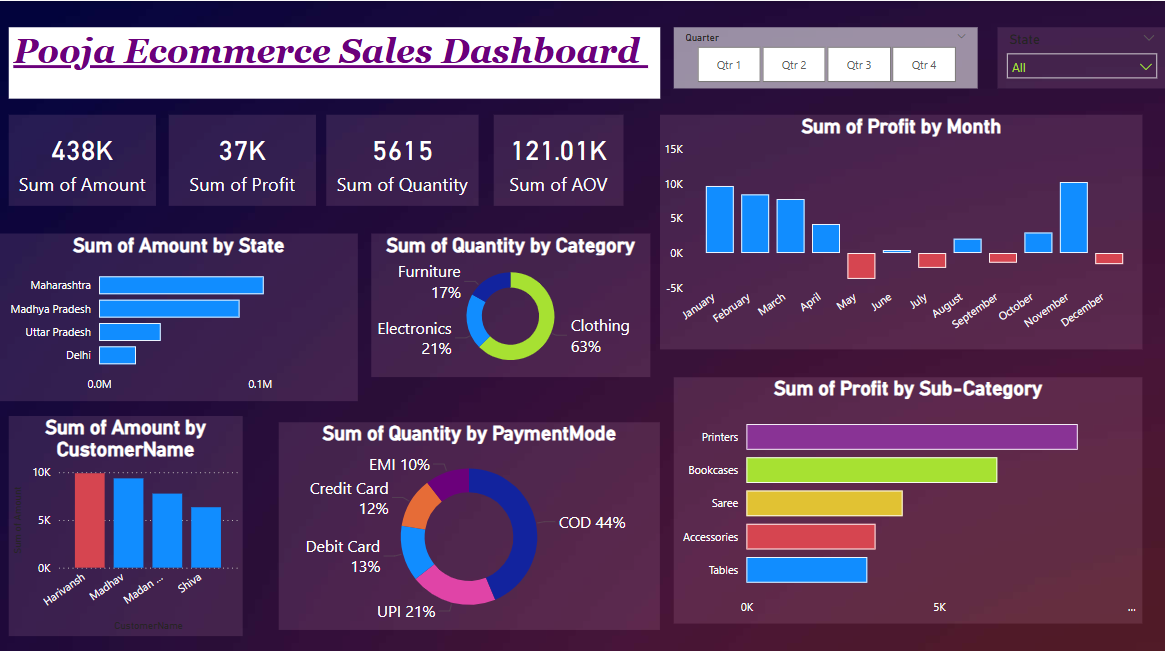

This screenshot's page, from the dashboard's own definition file:
{"tool":"powerbi","page":{"name":"Page 1","canvas":[1280,720],"ordinal":0},"visuals":[{"type":"textbox","box":[9.6,28.8,714.9,78.2],"z":0},{"type":"columnChart","fields":{"Y":["Sum(Details.Profit)"],"Category":["Orders.Order Date.Variation.Date Hierarchy.Month"]},"box":[724.5,124.9,529.7,258],"z":1000},{"type":"barChart","fields":{"Y":["Sum(Details.Profit)"],"Category":["Details.Sub-Category"]},"box":[739.6,413,514.6,270.3],"z":2000},{"type":"donutChart","fields":{"Y":["Sum(Details.Quantity)"],"Category":["Details.PaymentMode"]},"box":[306,462.4,418.5,227.8],"z":3000},{"type":"donutChart","fields":{"Category":["Details.Category"],"Y":["Sum(Details.Quantity)"]},"box":[407.5,255.2,306,157.8],"z":4000},{"type":"card","fields":{"Values":["Sum(Details.Amount)"]},"box":[9.6,124.9,161.9,100.2],"z":5000},{"type":"card","fields":{"Values":["Sum(Details.AOV)"]},"box":[542,124.9,142.7,100.2],"z":6000},{"type":"card","fields":{"Values":["Sum(Details.Quantity)"]},"box":[358.1,124.9,167.4,100.2],"z":7000},{"type":"card","fields":{"Values":["Sum(Details.Profit)"]},"box":[185.2,124.9,161.9,100.2],"z":8000},{"type":"barChart","fields":{"Category":["Orders.State"],"Y":["Sum(Details.Amount)"]},"box":[0,255.2,392.5,183.9],"z":9000},{"type":"columnChart","fields":{"Category":["Orders.CustomerName"],"Y":["Sum(Details.Amount)"]},"box":[9.6,455.6,256.6,241.5],"z":10000},{"type":"slicer","fields":{"Values":["Orders.Order Date.Variation.Date Hierarchy.Quarter"]},"box":[739.6,28.8,333.4,67.2],"z":11000},{"type":"slicer","fields":{"Values":["Orders.State"]},"box":[1095,28.8,185.2,67.2],"z":12000}]}

Visuals, with their boxes in screenshot pixels (x1, y1, x2, y2), scaled from the page's 1280x720 canvas onto the 1165x651 screenshot:
textbox: <bbox>9, 26, 659, 97</bbox>
columnChart - Sum(Details.Profit) x Orders.Order Date.Variation.Date Hierarchy.Month: <bbox>659, 113, 1142, 346</bbox>
barChart - Sum(Details.Profit) x Details.Sub-Category: <bbox>673, 373, 1142, 618</bbox>
donutChart - Sum(Details.Quantity) x Details.PaymentMode: <bbox>279, 418, 659, 624</bbox>
donutChart - Details.Category x Sum(Details.Quantity): <bbox>371, 231, 649, 373</bbox>
card - Sum(Details.Amount): <bbox>9, 113, 156, 204</bbox>
card - Sum(Details.AOV): <bbox>493, 113, 623, 204</bbox>
card - Sum(Details.Quantity): <bbox>326, 113, 478, 204</bbox>
card - Sum(Details.Profit): <bbox>169, 113, 316, 204</bbox>
barChart - Orders.State x Sum(Details.Amount): <bbox>0, 231, 357, 397</bbox>
columnChart - Orders.CustomerName x Sum(Details.Amount): <bbox>9, 412, 242, 630</bbox>
slicer - Orders.Order Date.Variation.Date Hierarchy.Quarter: <bbox>673, 26, 977, 87</bbox>
slicer - Orders.State: <bbox>997, 26, 1164, 87</bbox>
